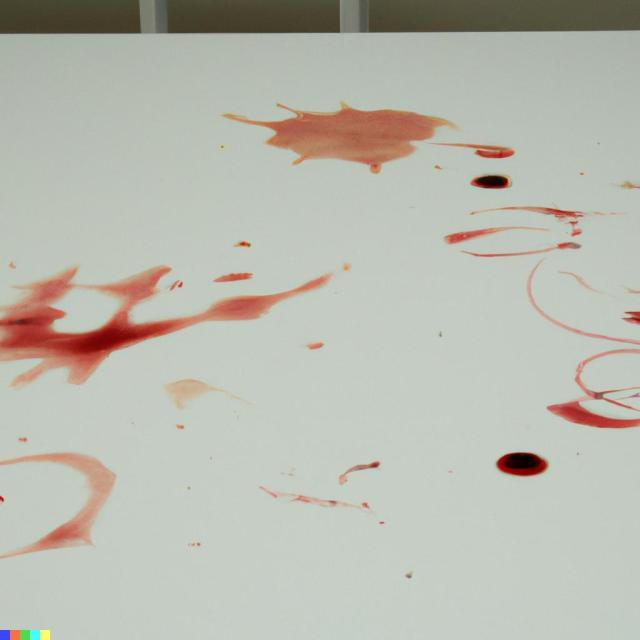flood: (222, 96, 548, 200)
